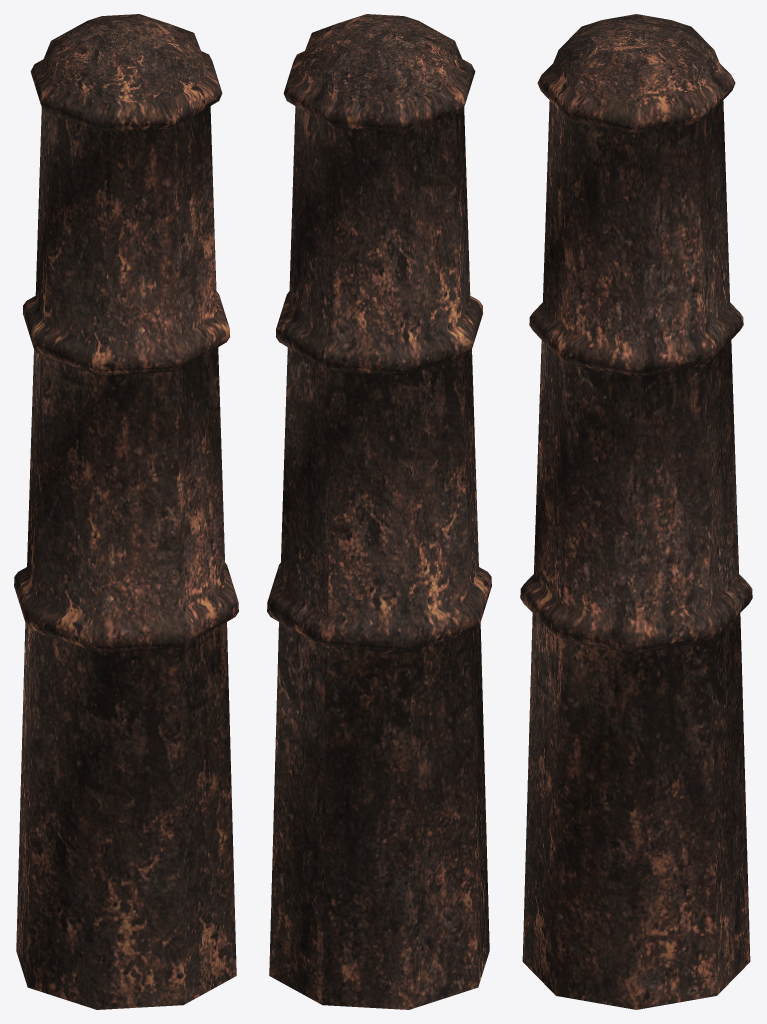
File: metal column_LOD0.fbx
3 renders of one model, left to right at view 1: azimuth 30°, elevation 25°; view 2: azimuth 150°, elevation 25°; view 3: azimuth 270°, elevation 25°, orthographic.
Parts seen in each view (by area): view 1: column_LOD0; view 2: column_LOD0; view 3: column_LOD0.
Boxes of the visible parts, left/top/right/bottom form: column_LOD0: left=14, top=14, right=238, bottom=1009; column_LOD0: left=267, top=14, right=491, bottom=1009; column_LOD0: left=520, top=14, right=752, bottom=1009.
Bounding box in the file's own units: 0.3331 × 1.48 × 0.3331.
